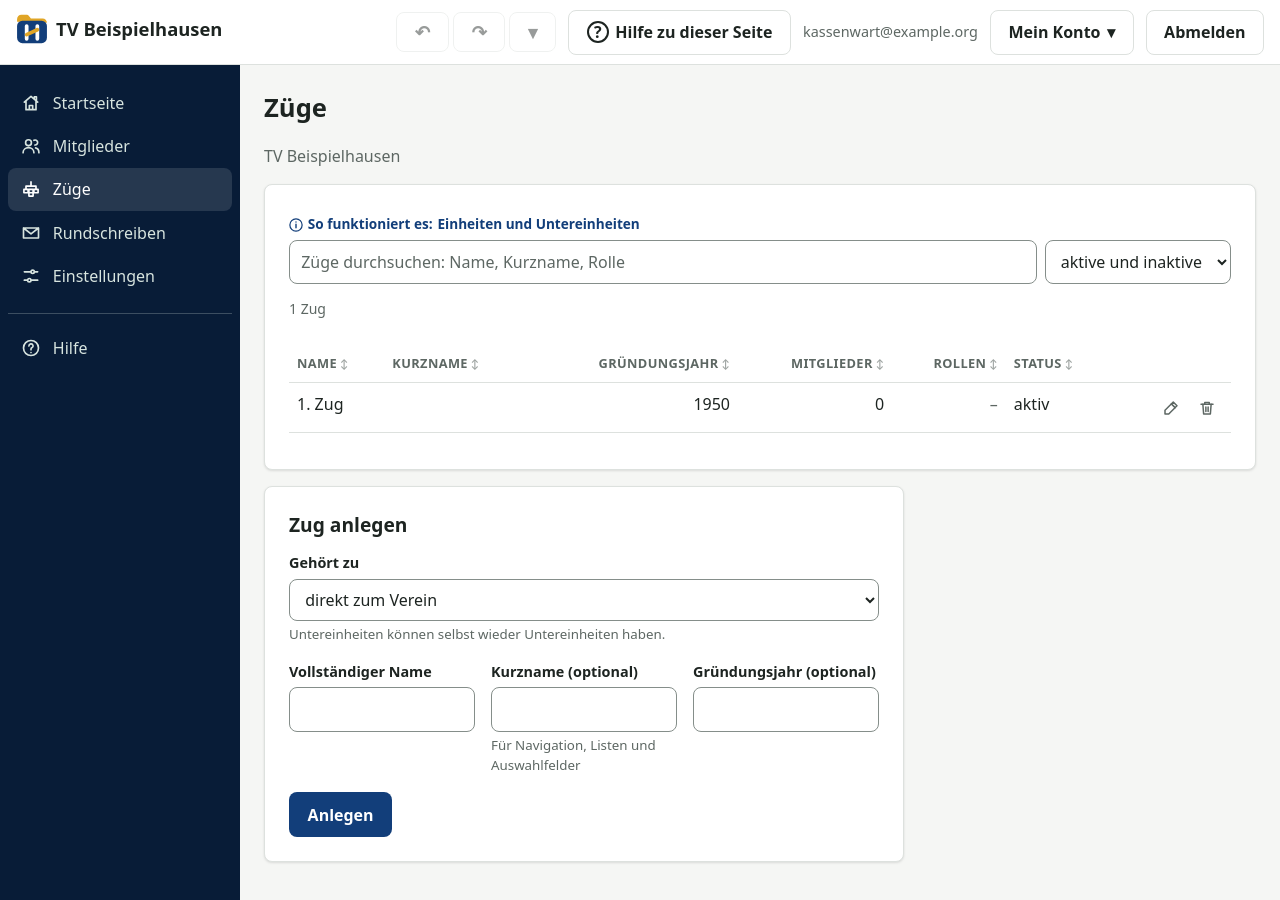
Test: Abteilungsbezeichnung › zeigt die Rollen eines Zugs ohne das Wort Abteilung
The image size is (1280, 900).
Expected: the heading "Züge" is shown, [264,90,327,125]
Click the button named "1. Zug bearbeiten": point(1171, 408) [1155,392,1187,424]
(page scrolled)
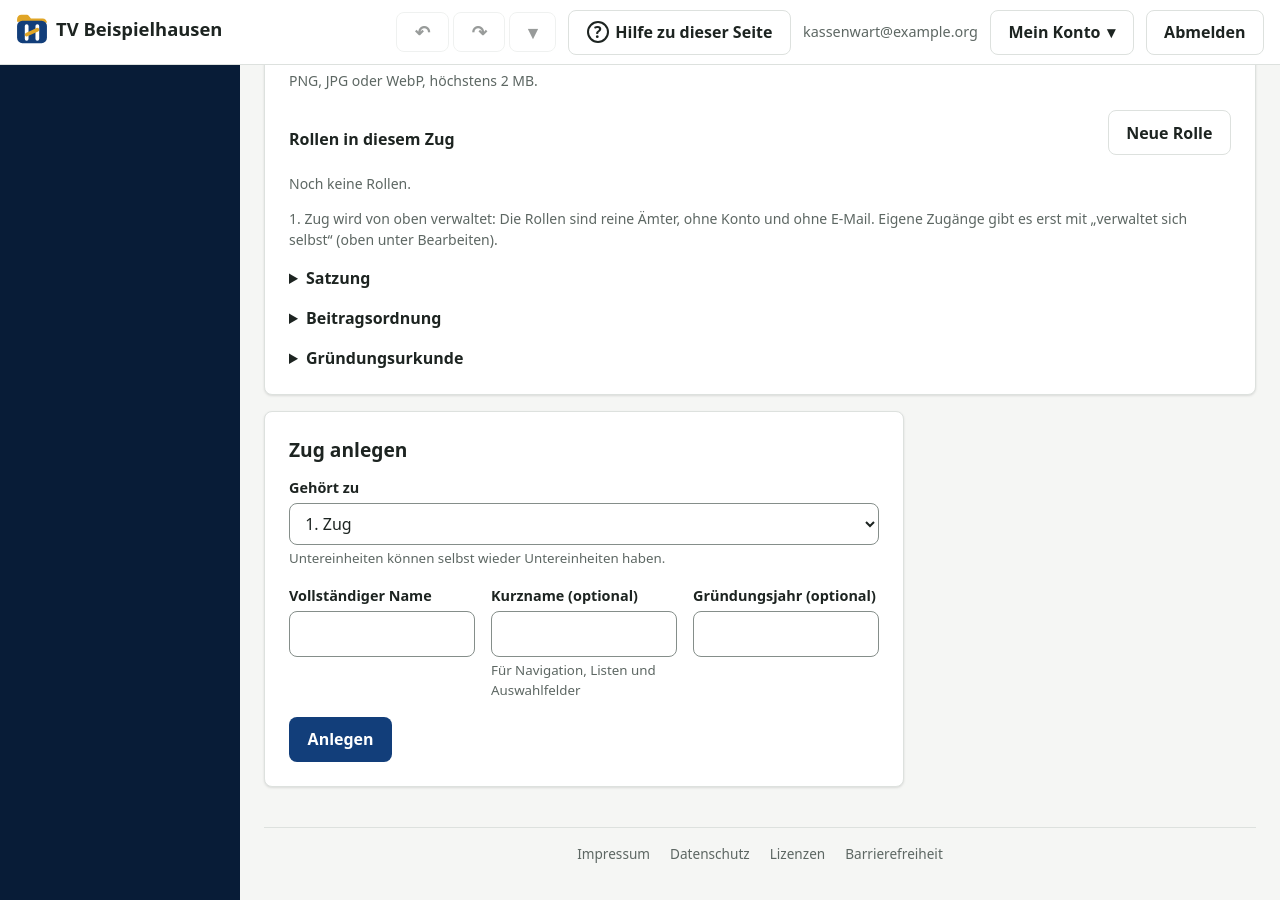
Expected: the heading "Zug anlegen" is shown, [289,436,407,463]
Result: the heading "Rollen in diesem Zug" is shown at [289,127,455,151]
